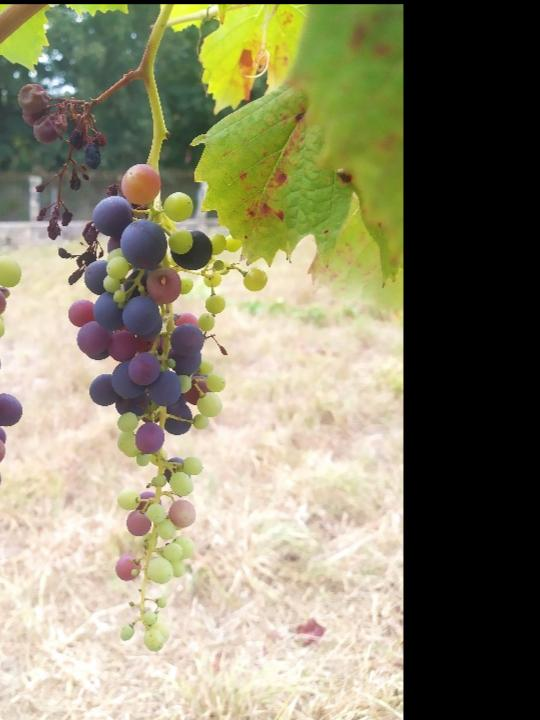grape: (52, 163, 265, 654), (16, 72, 110, 241), (0, 118, 24, 529)
